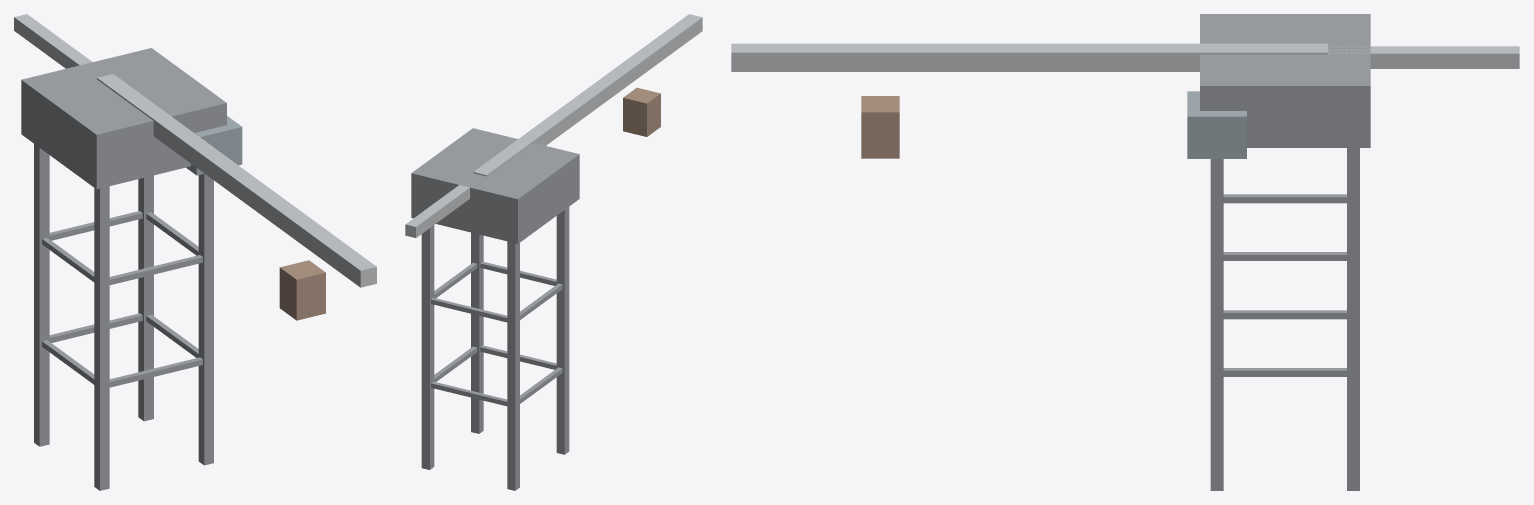
The model's file is dock_crane.lod1.glb.
3 renders of one model, left to right at view 1: azimuth 30°, elevation 25°; view 2: azimuth 150°, elevation 25°; view 3: azimuth 270°, elevation 25°, orthographic. The views are drawn at different scales.
Visible parts, largest first — view 1: props_dock_crane; view 2: props_dock_crane; view 3: props_dock_crane.
Part boxes in pixels (box(x1,y1,x2,y2)): props_dock_crane: box(14, 14, 376, 490); props_dock_crane: box(405, 14, 702, 490); props_dock_crane: box(731, 14, 1519, 490).
Bounding box in the file's own units: 4.3 × 10.65 × 18.5.
